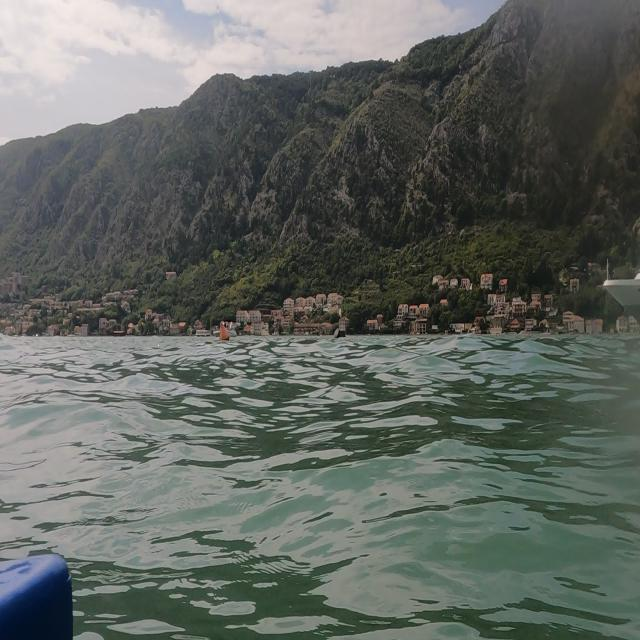buoy: (216, 316, 233, 354)
